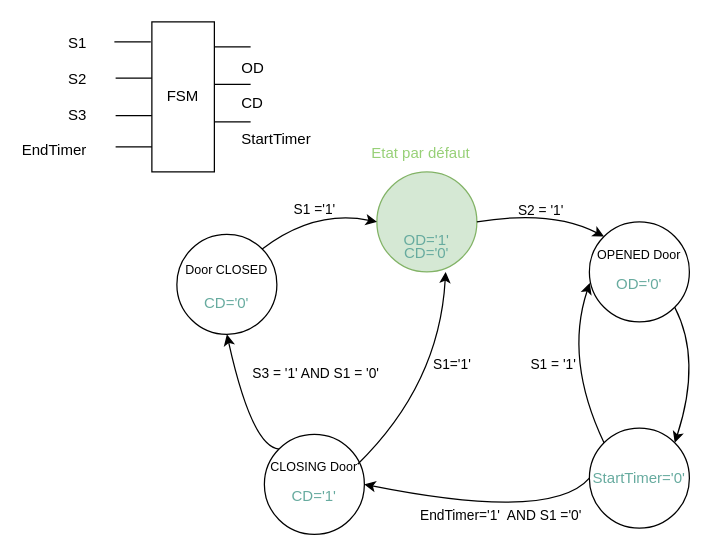
The diagram is 711 pixels wide and 556 high, and some of its shapes have lost their labels. Here are the shapes that lost their labels. From the top down, the box of each, then its label:
(376, 171, 477, 272): OPENING Door
(588, 427, 689, 528): WAIT OPEN
